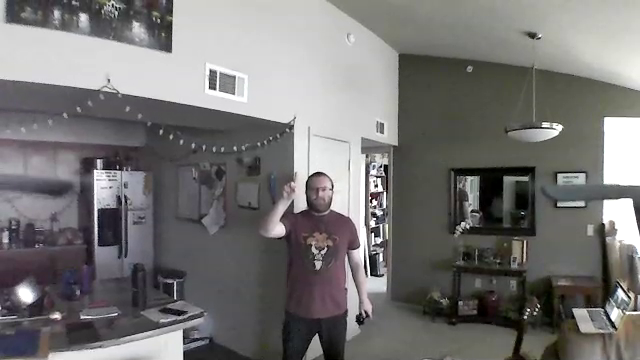up: (280, 168, 303, 197)
